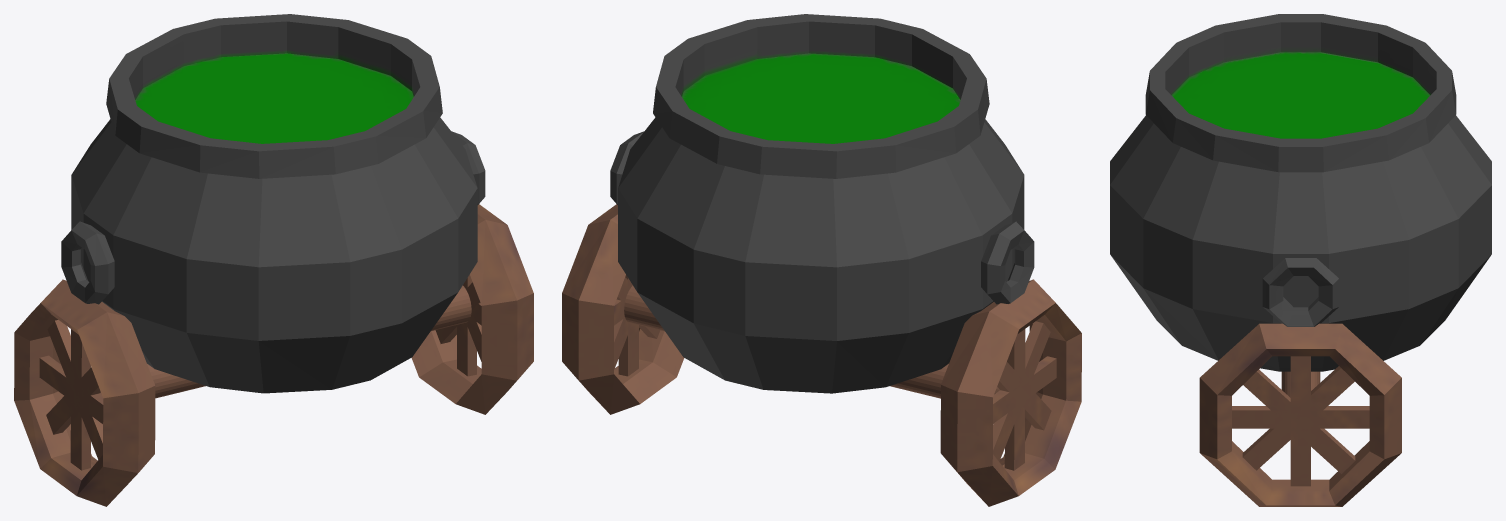
Rendered from calderoCarro.fbx.
The picture shows the model from 3 angles, left to right: view 1: azimuth 30°, elevation 25°; view 2: azimuth 150°, elevation 25°; view 3: azimuth 270°, elevation 25°; orthographic projection. The views are drawn at different scales.
Visible parts, largest first — view 1: Caldero; view 2: Caldero; view 3: Caldero.
Boxes of the visible parts, x1,y1,x2,y2 form: Caldero: [14, 14, 533, 506]; Caldero: [562, 14, 1081, 506]; Caldero: [1110, 14, 1491, 506].
Bounding box in the file's own units: 245 × 196 × 200.
